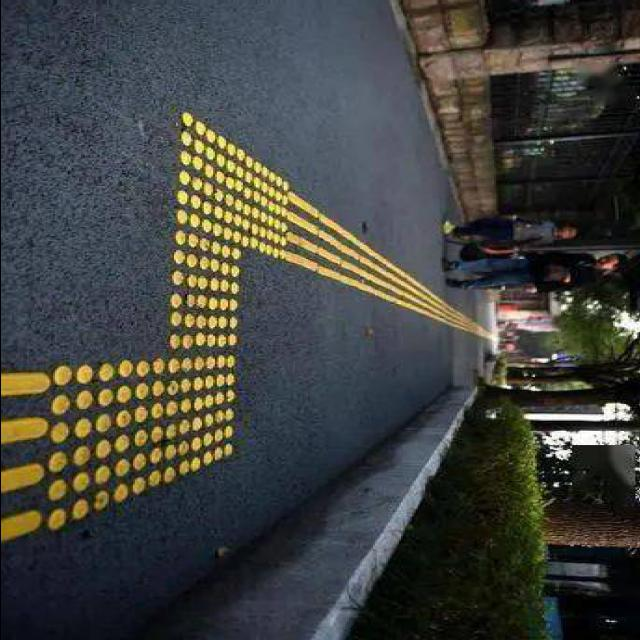tactile-guide-path: (2, 354, 234, 544), (285, 188, 495, 340), (168, 111, 286, 349)
